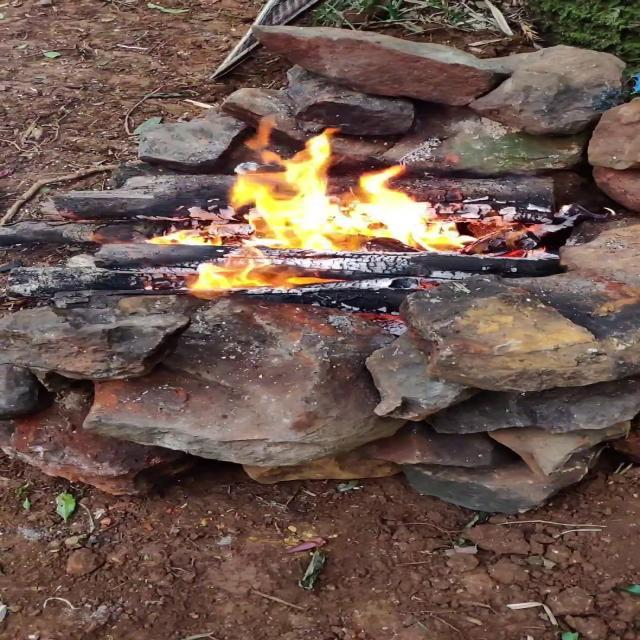Fire: (134, 122, 482, 290)
